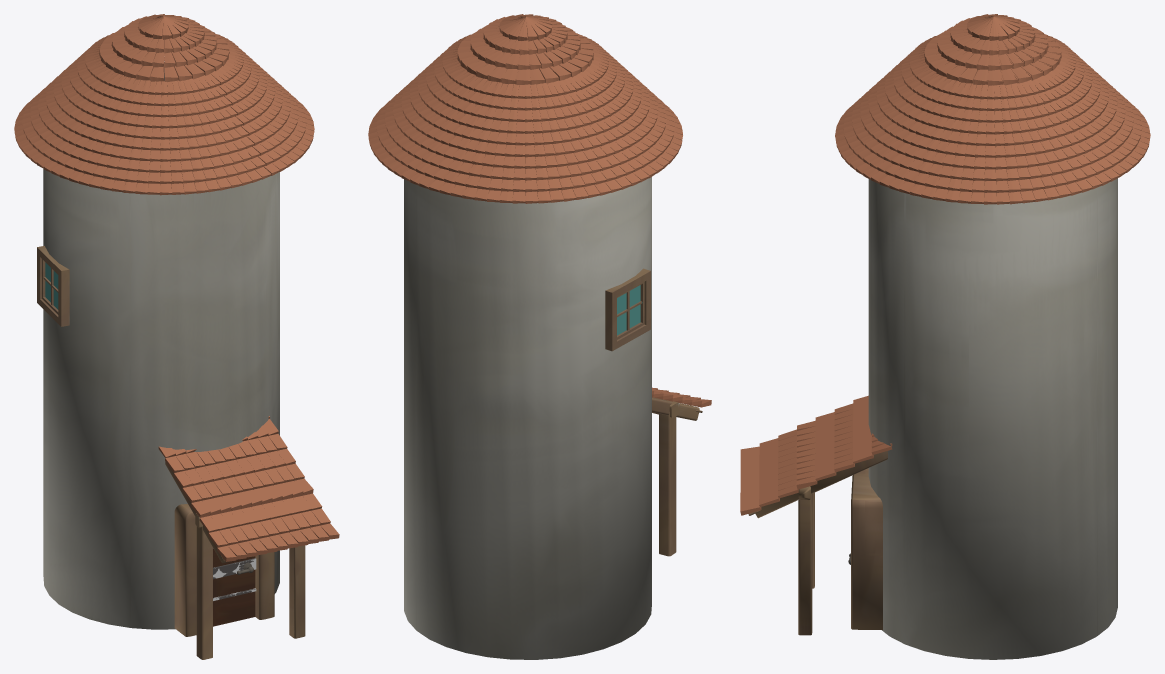
The model's file is Tower.fbx.
The picture shows the model from 3 angles, left to right: view 1: azimuth 30°, elevation 25°; view 2: azimuth 150°, elevation 25°; view 3: azimuth 270°, elevation 25°; orthographic projection. The views are drawn at different scales.
Parts seen in each view (by area): view 1: Tower_LOD0; view 2: Tower_LOD0; view 3: Tower_LOD0.
Boxes of the visible parts, x1=… form: Tower_LOD0: x1=14, y1=14, x2=339, y2=659; Tower_LOD0: x1=368, y1=14, x2=711, y2=659; Tower_LOD0: x1=740, y1=14, x2=1150, y2=659.
Size of what is drawn, in the model's own units: 1290 by 2675 by 1676.
